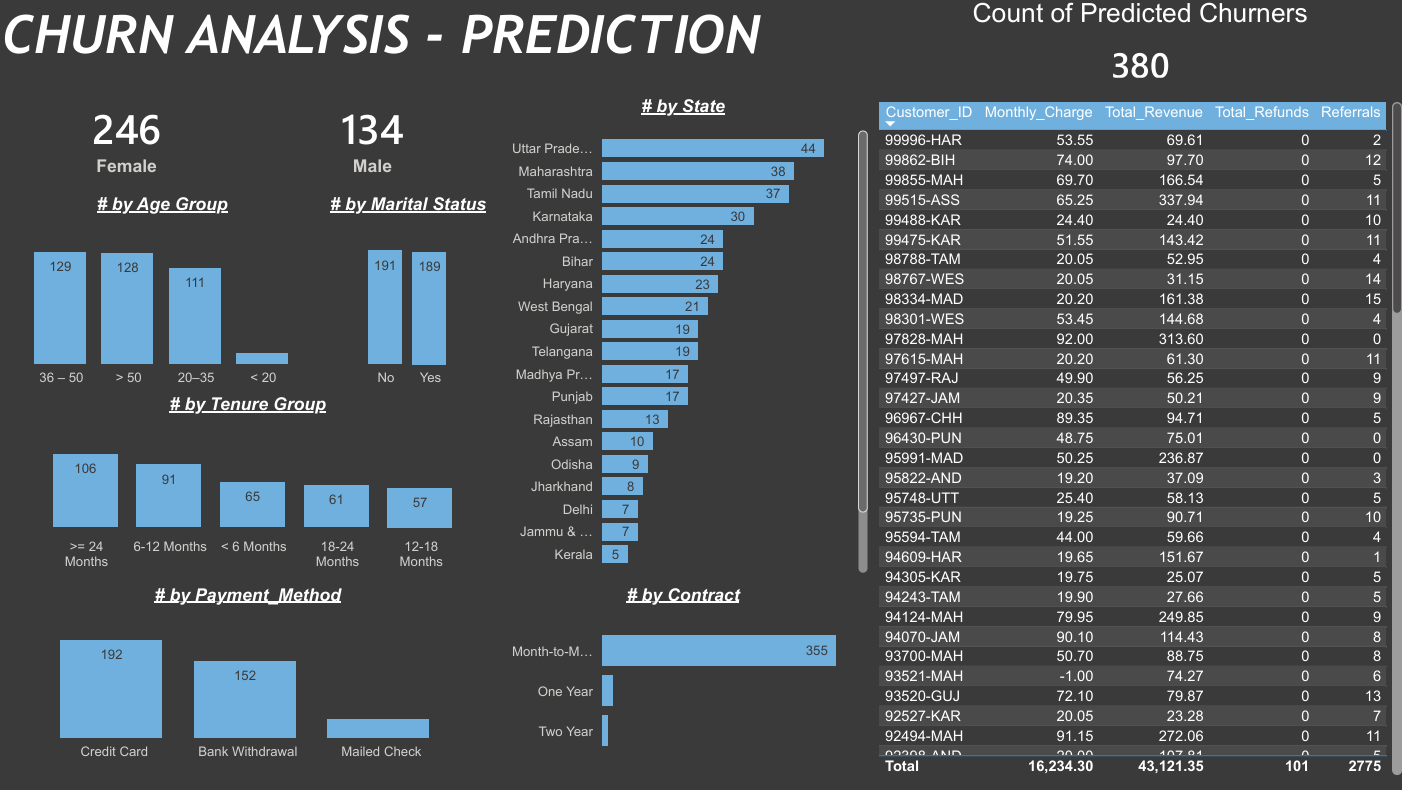

Layout of this report page (visuals, bound fields, positions):
{"tool":"powerbi","page":{"name":"Churn Prediction","canvas":[1280,720],"ordinal":1},"visuals":[{"type":"tableEx","fields":{"Values":["predicted data.Customer_ID","Sum(predicted data.Monthly_Charge)","Sum(predicted data.Total_Revenue)","Sum(predicted data.Total_Refunds)","Sum(predicted data.Number_of_Referrals)"]},"box":[795,90,485,620],"z":0},{"type":"cardVisual","title":"Count of Predicted Churners","fields":{"Data":["Measures 1.Count Predicted Churner"]},"box":[795,0,485,90],"z":1000},{"type":"cardVisual","fields":{"Data":["Measures 1.Count Predicted Churner"]},"box":[5,72.5,223.8,106.2],"z":2000},{"type":"cardVisual","fields":{"Data":["Measures 1.Count Predicted Churner"]},"box":[228.8,72.5,222.5,106.2],"z":3000},{"type":"clusteredColumnChart","fields":{"Category":["mapping_AgeGrp.Age Group "],"Y":["CountNonNull(predicted data.Customer_ID)"]},"box":[5,178.8,291.2,181.2],"z":4000},{"type":"clusteredColumnChart","fields":{"Y":["CountNonNull(predicted data.Customer_ID)"],"Category":["predicted data.Married"]},"box":[296.2,178.8,155,181.2],"z":5000},{"type":"clusteredColumnChart","fields":{"Y":["CountNonNull(predicted data.Customer_ID)"],"Category":["mapping_TenureGrp.Tenure Group "]},"box":[5,360,446.2,166.2],"z":6000},{"type":"clusteredColumnChart","fields":{"Y":["CountNonNull(predicted data.Customer_ID)"],"Category":["predicted data.Payment_Method"]},"box":[5,532.5,446.2,166.2],"z":7000},{"type":"barChart","fields":{"Y":["CountNonNull(predicted data.Customer_ID)"],"Category":["predicted data.Contract"]},"box":[451.2,532.5,343.8,166.2],"z":8000},{"type":"barChart","fields":{"Y":["CountNonNull(predicted data.Customer_ID)"],"Category":["predicted data.State"]},"box":[451.2,90,343.8,436.2],"z":9000},{"type":"textbox","box":[0,0,795,90],"z":10000}]}

Visuals, with their boxes in screenshot pixels (x1, y1, x2, y2), scaled from the page's 1280x720 canvas onto the 1402x790 screenshot:
tableEx - predicted data.Customer_ID x Sum(predicted data.Monthly_Charge): x1=871, y1=99, x2=1401, y2=779
"Count of Predicted Churners" cardVisual: x1=871, y1=0, x2=1401, y2=99
cardVisual - Measures 1.Count Predicted Churner: x1=5, y1=80, x2=251, y2=196
cardVisual - Measures 1.Count Predicted Churner: x1=251, y1=80, x2=494, y2=196
clusteredColumnChart - mapping_AgeGrp.Age Group  x CountNonNull(predicted data.Customer_ID): x1=5, y1=196, x2=324, y2=395
clusteredColumnChart - CountNonNull(predicted data.Customer_ID) x predicted data.Married: x1=324, y1=196, x2=494, y2=395
clusteredColumnChart - CountNonNull(predicted data.Customer_ID) x mapping_TenureGrp.Tenure Group : x1=5, y1=395, x2=494, y2=577
clusteredColumnChart - CountNonNull(predicted data.Customer_ID) x predicted data.Payment_Method: x1=5, y1=584, x2=494, y2=767
barChart - CountNonNull(predicted data.Customer_ID) x predicted data.Contract: x1=494, y1=584, x2=871, y2=767
barChart - CountNonNull(predicted data.Customer_ID) x predicted data.State: x1=494, y1=99, x2=871, y2=577
textbox: x1=0, y1=0, x2=871, y2=99
